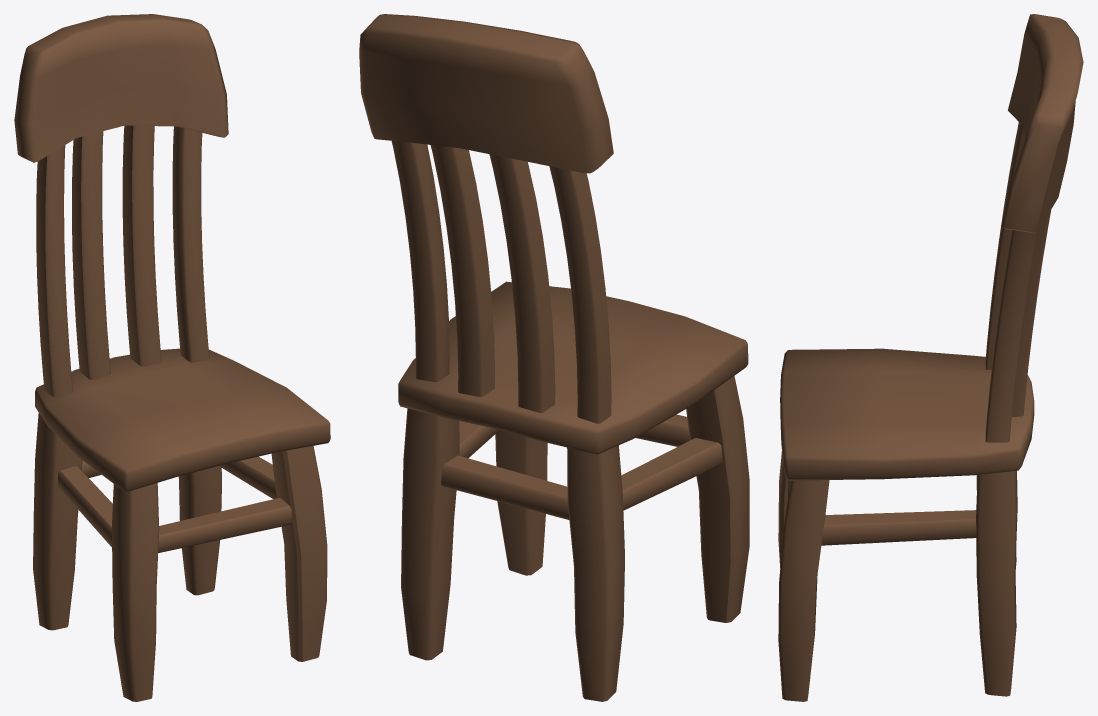
The model's file is SM_Chair_01.FBX.
3 renders of one model, left to right at view 1: azimuth 30°, elevation 25°; view 2: azimuth 150°, elevation 25°; view 3: azimuth 270°, elevation 25°, orthographic. The views are drawn at different scales.
Parts seen in each view (by area): view 1: SM_Chair; view 2: SM_Chair; view 3: SM_Chair.
Part boxes in pixels (box(x1,y1,x2,y2)): SM_Chair: box(14, 14, 330, 701); SM_Chair: box(359, 14, 749, 701); SM_Chair: box(778, 14, 1083, 701).
Size of the model in its own units: 49.97 by 128 by 58.08.
